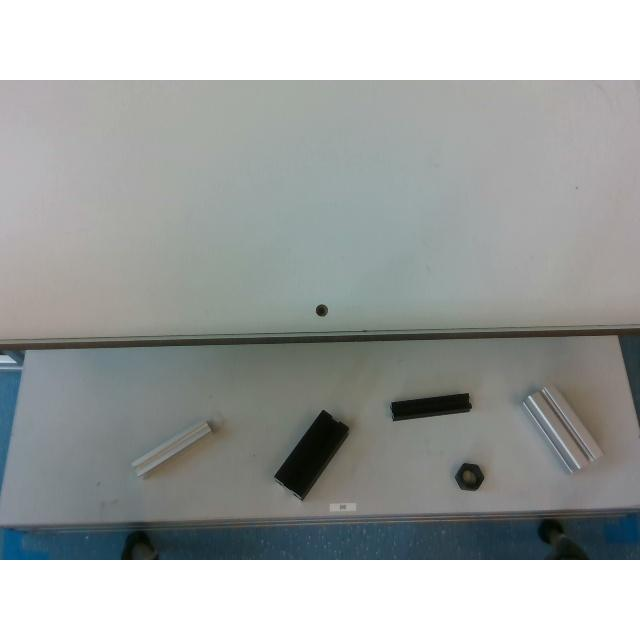F20_20_B: (390, 392, 470, 420)
F20_20_G: (131, 418, 211, 478)
M20: (456, 462, 484, 490)
S40_40_B: (274, 410, 348, 500)
S40_40_G: (522, 384, 602, 472)
